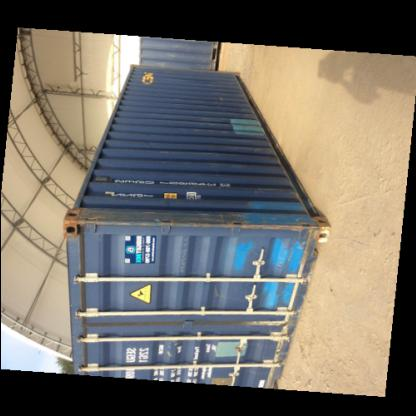Damage: (57, 203, 322, 239), (290, 224, 322, 286), (262, 338, 292, 390), (240, 315, 295, 337)
